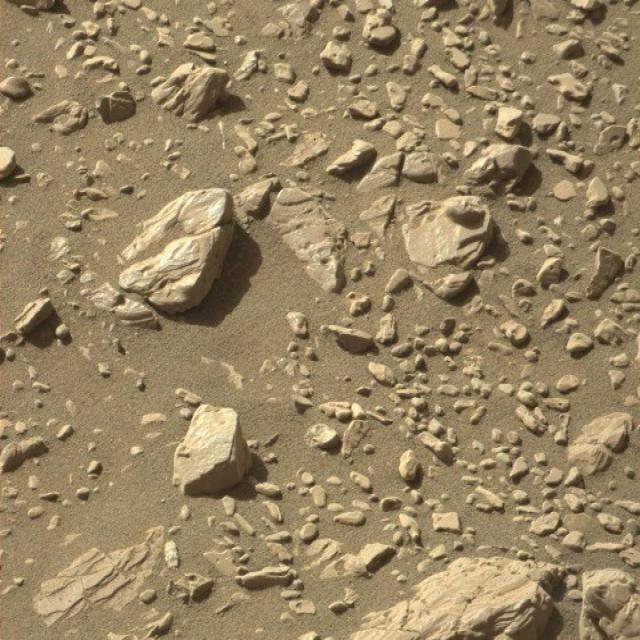mars-rocks: (351, 559, 561, 640), (118, 189, 234, 314), (173, 405, 251, 496), (403, 196, 494, 268), (151, 62, 229, 122)
